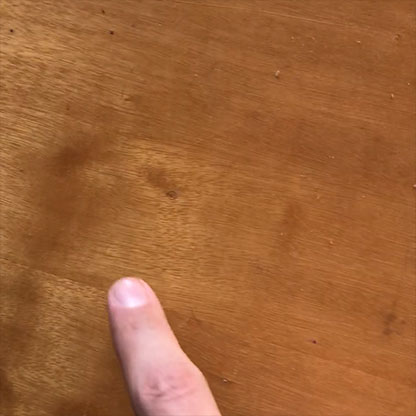fingertip: (99, 271, 170, 327)
